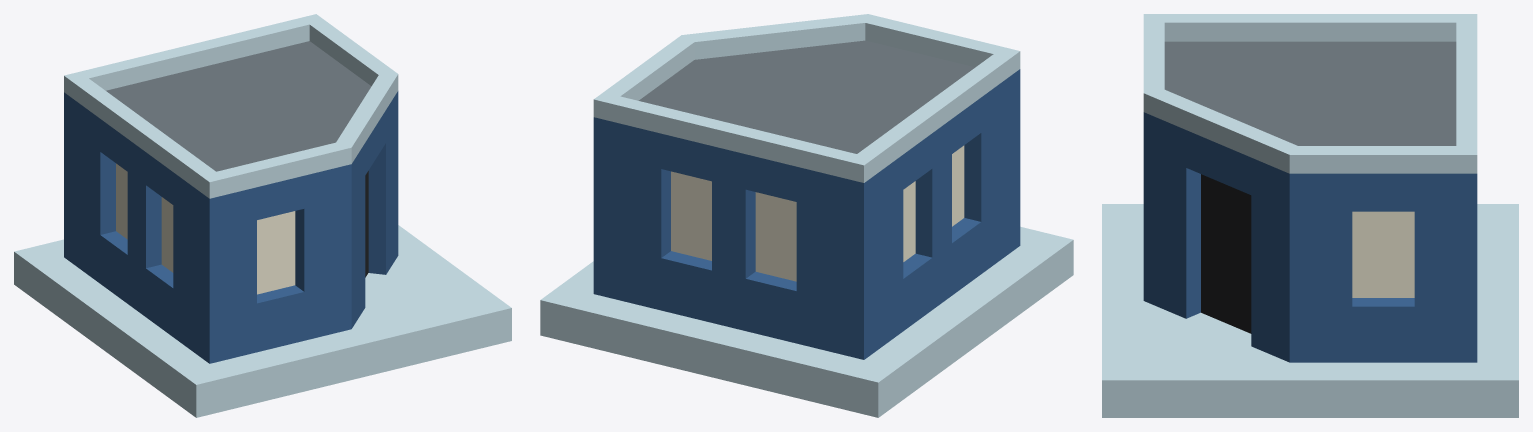
File: Building_10_Base (Blue).obj
The picture shows the model from 3 angles, left to right: view 1: azimuth 30°, elevation 25°; view 2: azimuth 150°, elevation 25°; view 3: azimuth 270°, elevation 25°; orthographic projection. The views are drawn at different scales.
Parts seen in each view (by area): view 1: Building_10_Base_(Blue); view 2: Building_10_Base_(Blue); view 3: Building_10_Base_(Blue).
Boxes of the visible parts, x1,y1,x2,y2 form: Building_10_Base_(Blue): (14,14,511,417); Building_10_Base_(Blue): (540,14,1073,417); Building_10_Base_(Blue): (1102,14,1518,417).
Size of the model in its own units: 2 by 1.3 by 2.
